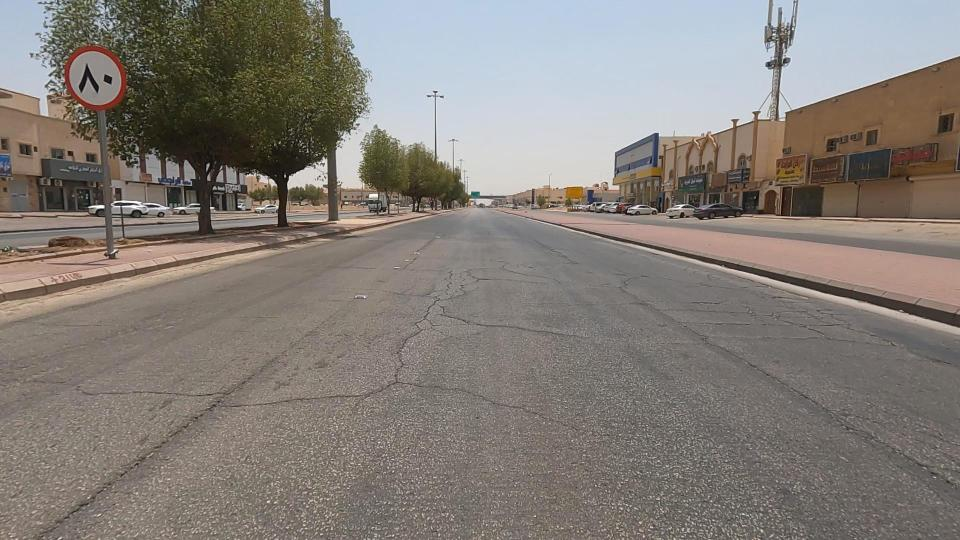BAD_BILLBOARD: (808, 128, 910, 200), (789, 137, 855, 201)
